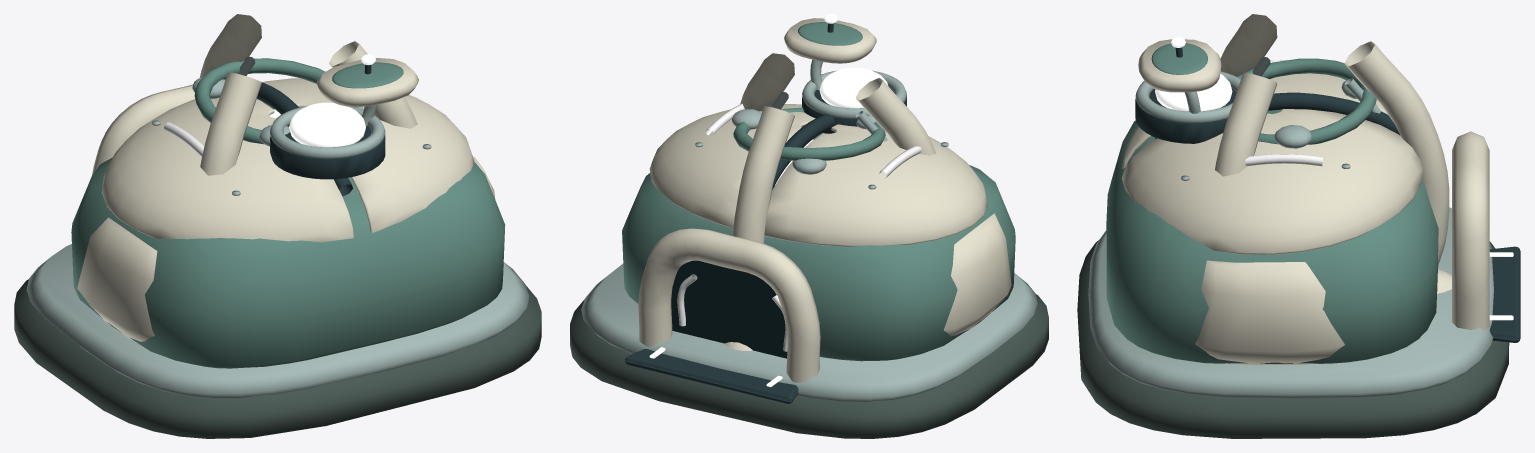
The model's file is frontier.glb.
3 views of the same model, side by side, from view 1: azimuth 30°, elevation 25°; view 2: azimuth 150°, elevation 25°; view 3: azimuth 270°, elevation 25° (orthographic). The views are drawn at different scales.
Visible parts, largest first — view 1: Structure_Jade, Roof_Porcelain, Structure_Rubber, Structure_Alloy, Structure_Porcelain, Bow1_Porcelain, Structure_Graphite, Structure_Optic, Dock_Porcelain, Rotor_Jade, Scanner_Porcelain, Bow0_Porcelain (+2 smaller); view 2: Roof_Porcelain, Structure_Jade, Structure_Rubber, Structure_Alloy, Dock_Porcelain, Dock_Glass, Structure_Porcelain, Structure_Graphite, Bow0_Porcelain, Bow1_Porcelain, Scanner_Porcelain, Rotor_Jade (+6 smaller); view 3: Structure_Jade, Roof_Porcelain, Structure_Rubber, Structure_Alloy, Structure_Porcelain, Dock_Porcelain, Bow0_Porcelain, Structure_Graphite, Bow2_Porcelain, Rotor_Jade, Scanner_Porcelain, Bow1_Porcelain (+4 smaller).
Part boxes in pixels (bbox=[...]): Structure_Jade: bbox=[71, 107, 505, 368]; Roof_Porcelain: bbox=[102, 78, 474, 242]; Structure_Rubber: bbox=[14, 279, 541, 438]; Structure_Alloy: bbox=[26, 105, 529, 397]; Structure_Porcelain: bbox=[77, 156, 495, 341]; Bow1_Porcelain: bbox=[200, 72, 261, 175]; Structure_Graphite: bbox=[257, 82, 385, 196]; Structure_Optic: bbox=[289, 102, 365, 147]; Dock_Porcelain: bbox=[92, 84, 194, 174]; Rotor_Jade: bbox=[194, 58, 325, 144]; Scanner_Porcelain: bbox=[316, 58, 418, 106]; Bow0_Porcelain: bbox=[199, 14, 261, 77]; Roof_Porcelain: bbox=[649, 104, 987, 246]; Structure_Jade: bbox=[622, 126, 1015, 361]; Structure_Rubber: bbox=[570, 294, 1048, 438]; Structure_Alloy: bbox=[581, 70, 1037, 401]; Dock_Porcelain: bbox=[638, 228, 820, 382]; Dock_Glass: bbox=[671, 260, 787, 358]; Structure_Porcelain: bbox=[943, 213, 1011, 336]; Structure_Graphite: bbox=[625, 87, 906, 403]; Bow0_Porcelain: bbox=[724, 106, 794, 350]; Bow1_Porcelain: bbox=[856, 78, 936, 155]; Scanner_Porcelain: bbox=[784, 18, 876, 63]; Rotor_Jade: bbox=[733, 107, 885, 160]; Structure_Jade: bbox=[1106, 109, 1438, 363]; Roof_Porcelain: bbox=[1121, 73, 1423, 254]; Structure_Rubber: bbox=[1077, 240, 1509, 438]; Structure_Alloy: bbox=[1088, 71, 1493, 398]; Structure_Porcelain: bbox=[1195, 260, 1344, 365]; Dock_Porcelain: bbox=[1452, 131, 1489, 330]; Bow0_Porcelain: bbox=[1344, 41, 1451, 293]; Structure_Graphite: bbox=[1135, 88, 1520, 342]; Bow2_Porcelain: bbox=[1215, 72, 1276, 176]; Rotor_Jade: bbox=[1236, 58, 1376, 144]; Scanner_Porcelain: bbox=[1138, 39, 1221, 92]; Bow1_Porcelain: bbox=[1220, 14, 1277, 76].
Size of the model in its own units: 1.78 by 1.29 by 1.6.
